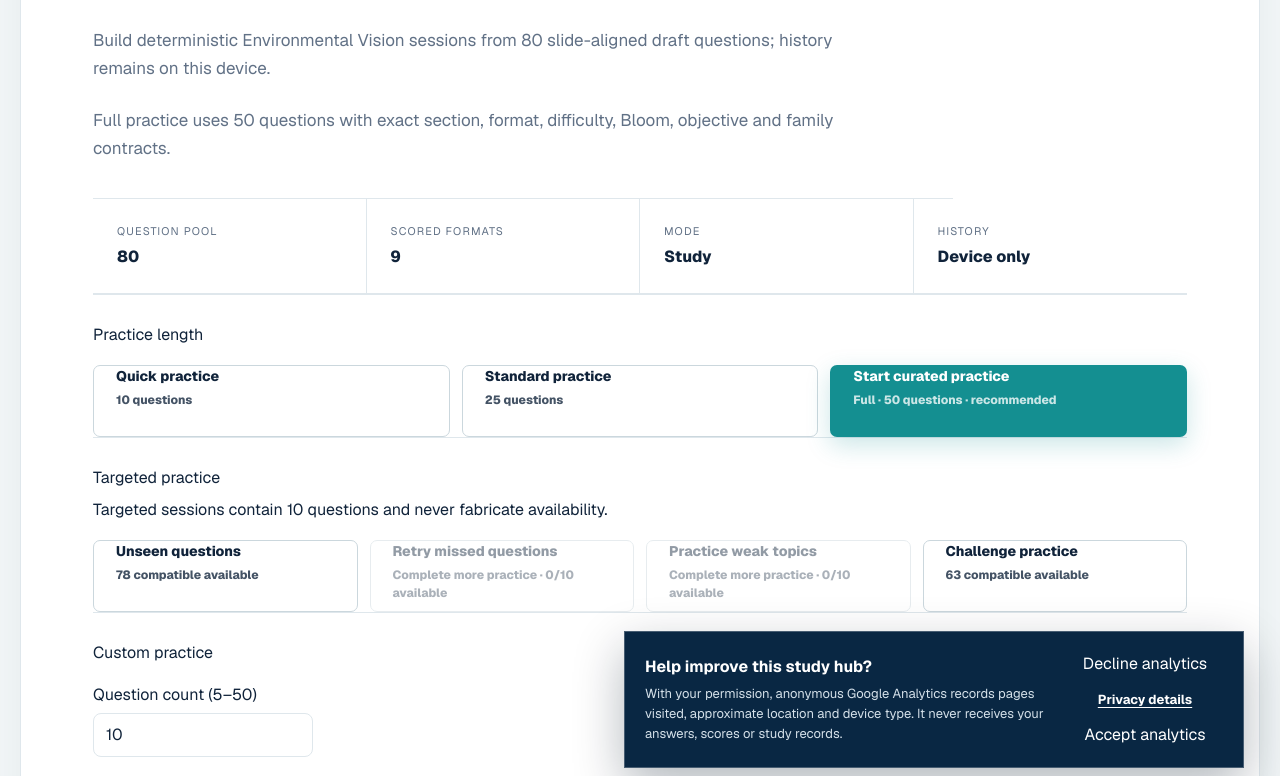
Test: Environmental Vision curated experience › loads the generic route lazily and starts a valid Quick 10 session
(page scrolled)
Expected: the text "80" is shown, [117, 246, 139, 267]
What coordinates should you click on to do the following:
click the button "Quick practice 10 questions"
I would click on:
 (168, 376)
Its box is [93, 365, 450, 437].
(page scrolled)
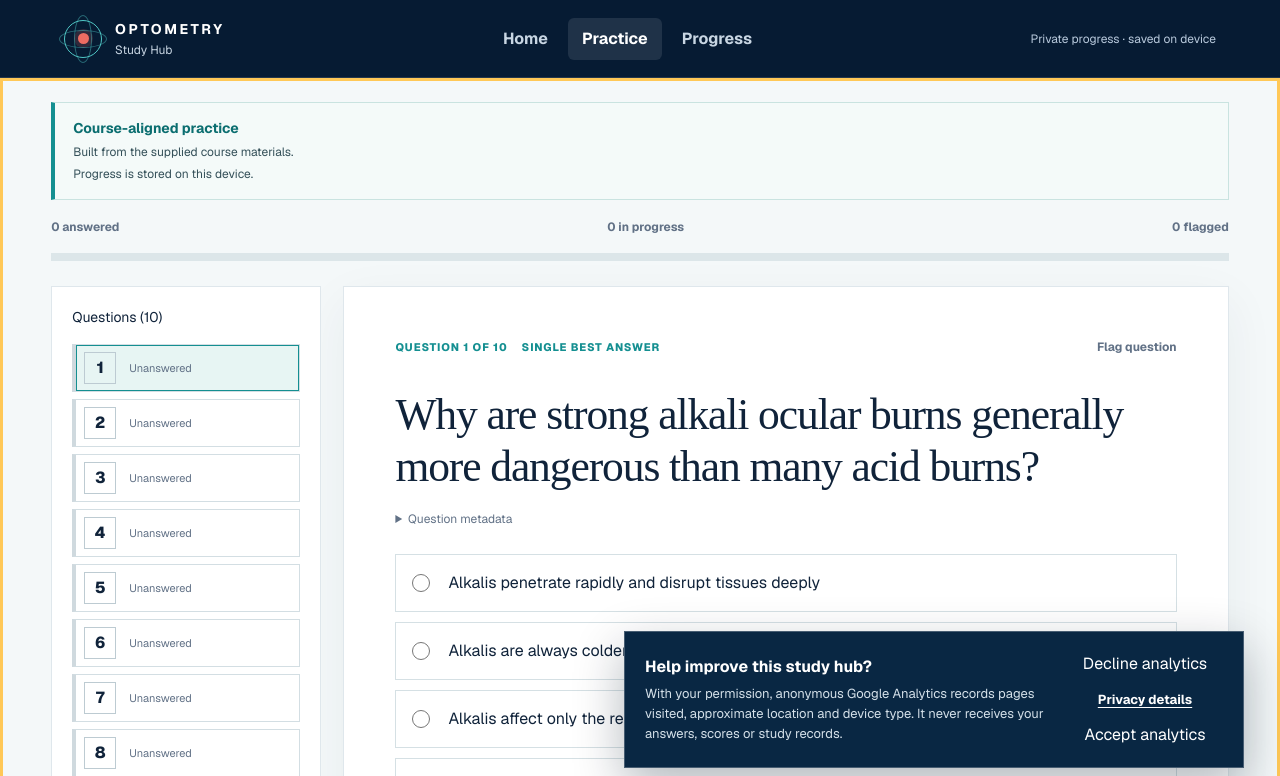
Now the text "Question 1 of 10" is shown, box [395, 339, 508, 355]
